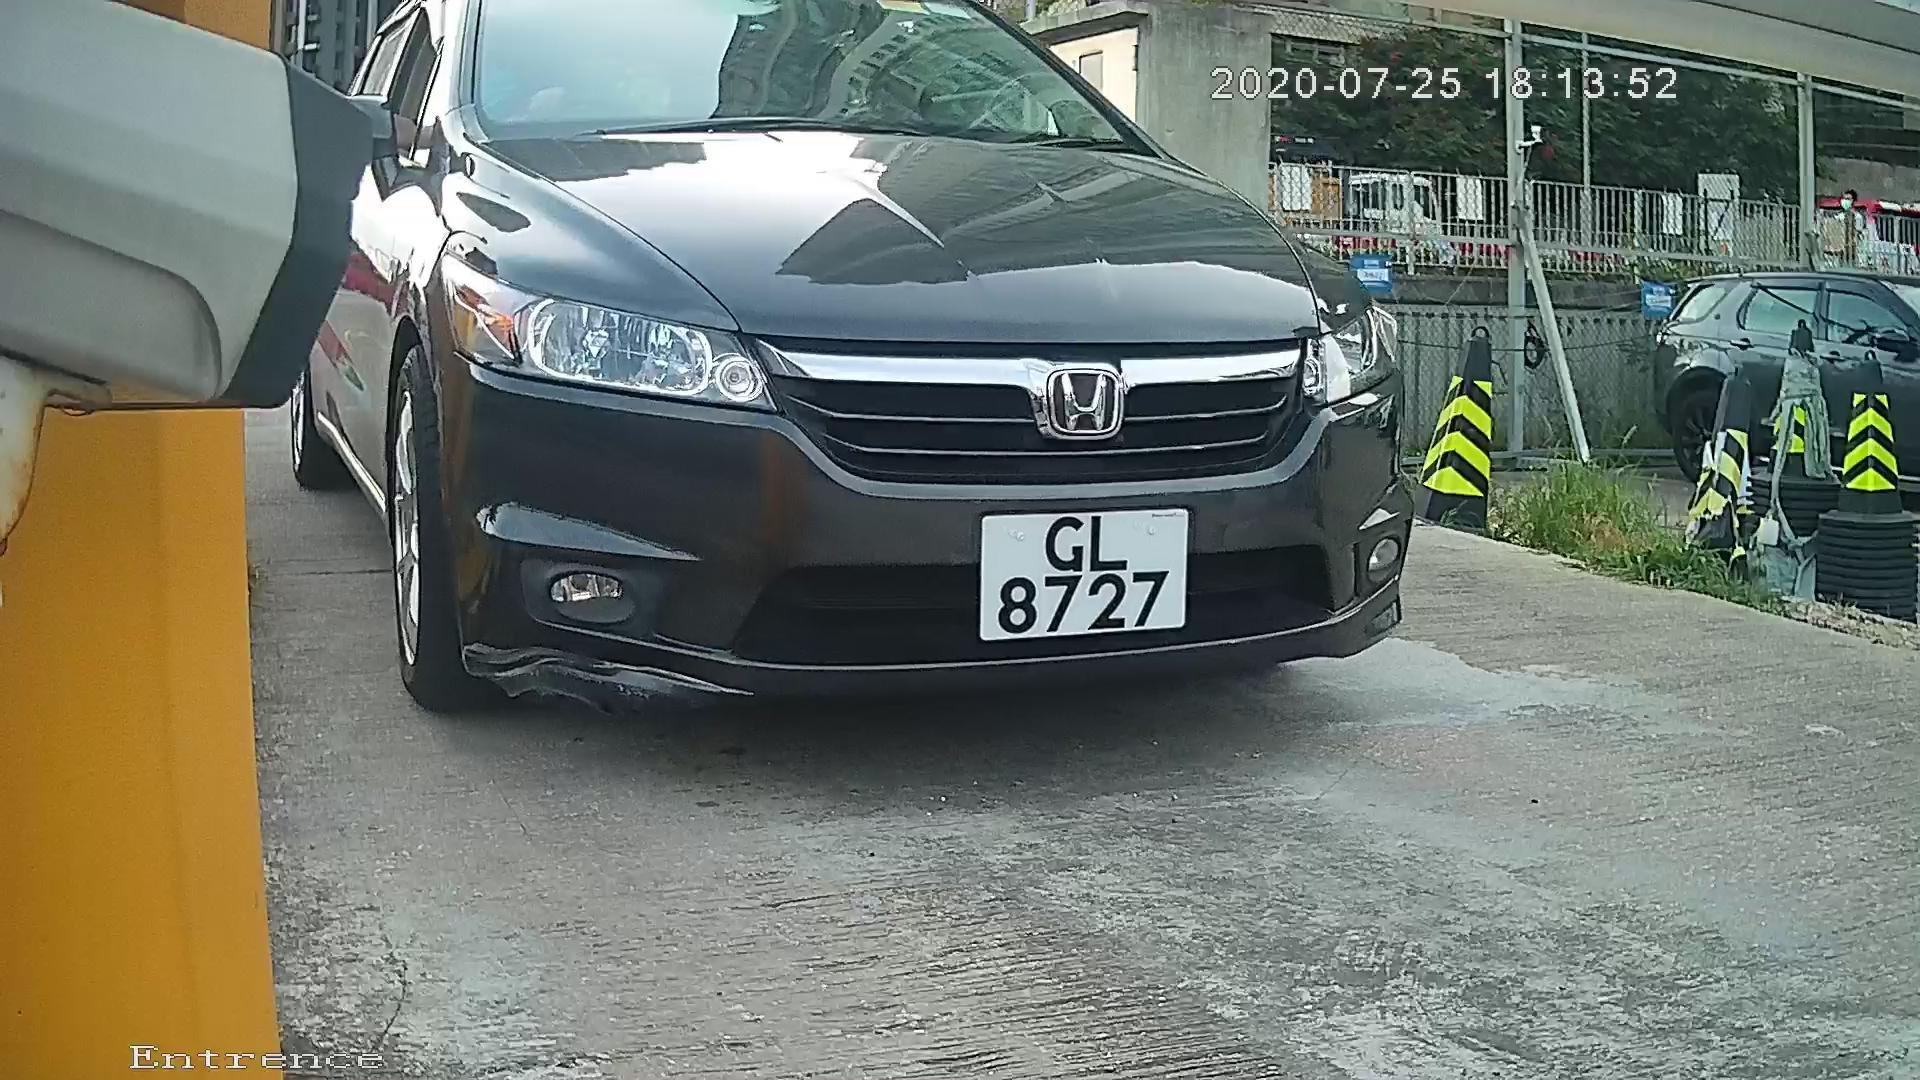privatecar: (276, 4, 1452, 796)
